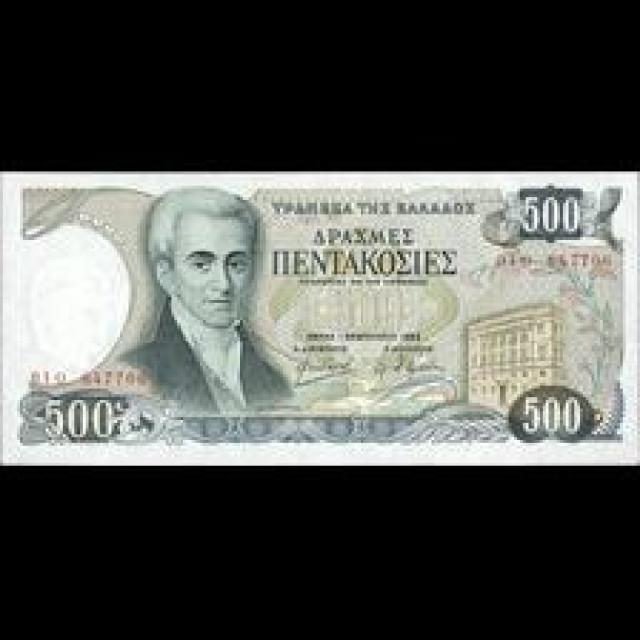banknote: (1, 174, 640, 466), (36, 389, 123, 450), (513, 383, 592, 446), (516, 182, 588, 248)
